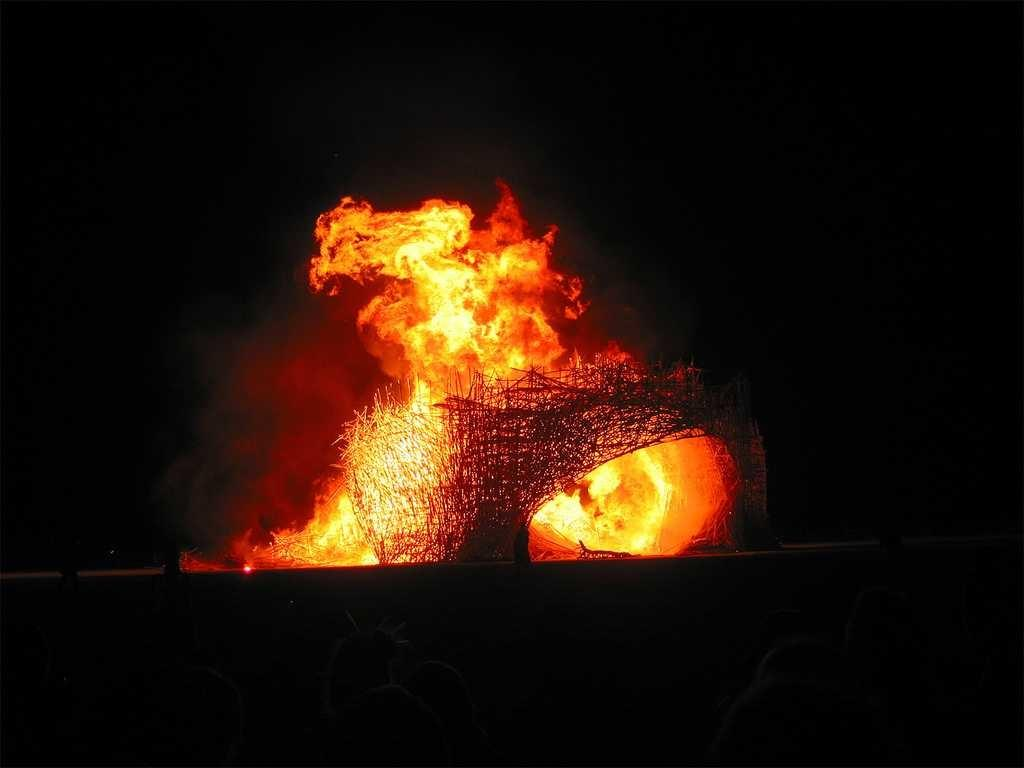fire: (376, 226, 550, 372), (570, 462, 698, 550), (272, 510, 364, 562)
